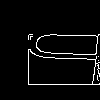U: (26, 25, 100, 64)
